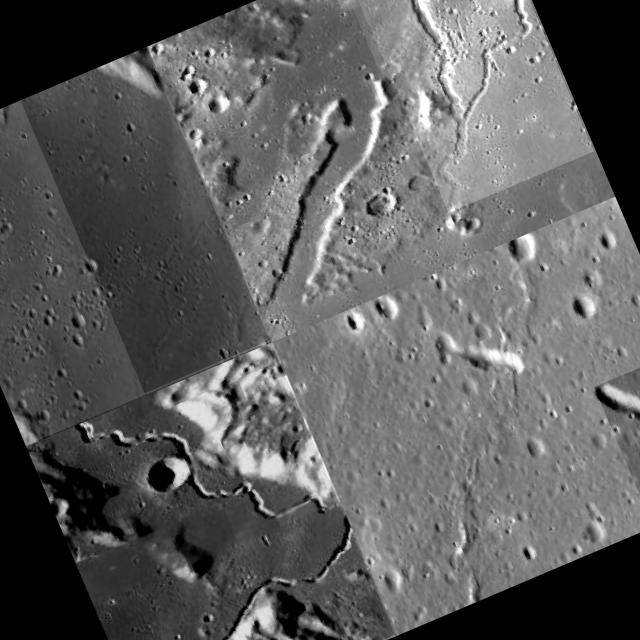rille: (25, 341, 394, 640), (21, 46, 270, 392), (354, 0, 593, 212), (334, 0, 494, 143), (593, 350, 640, 523)
